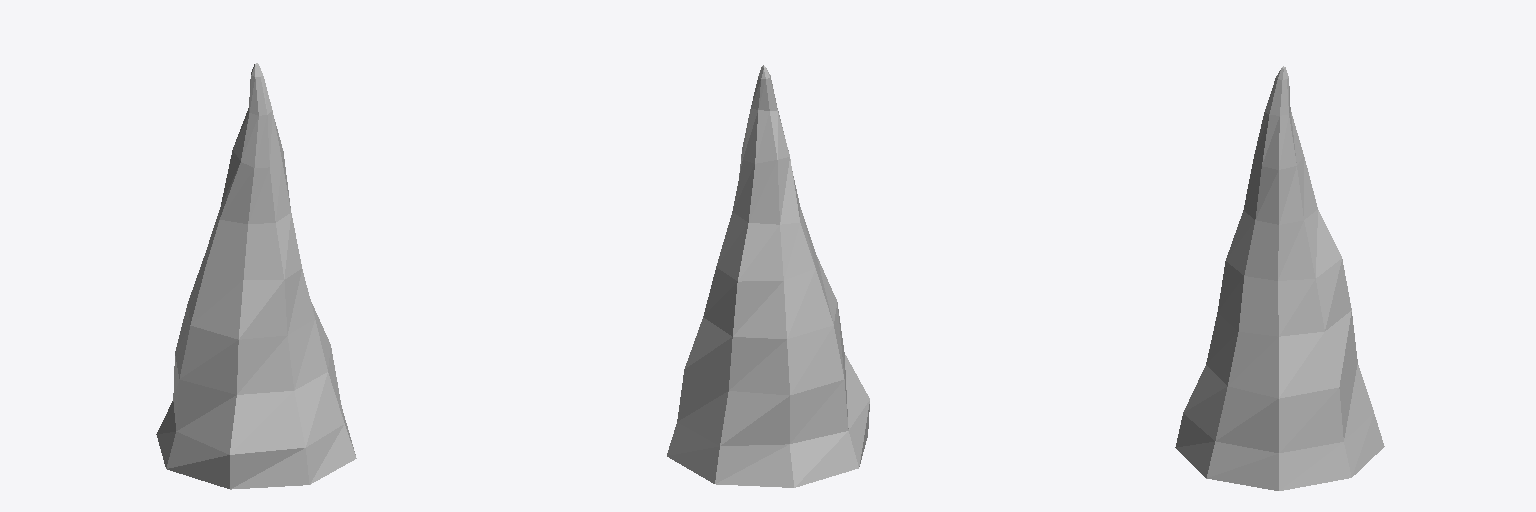
File: stalagmite001pCone1.OBJ
3 renders of one model, left to right at view 1: azimuth 30°, elevation 25°; view 2: azimuth 150°, elevation 25°; view 3: azimuth 270°, elevation 25°, orthographic.
Parts seen in each view (by area): view 1: ZBrush_defualt_group; view 2: ZBrush_defualt_group; view 3: ZBrush_defualt_group.
Part boxes in pixels (x1,y1,x2,y2): ZBrush_defualt_group: (156,63,356,489); ZBrush_defualt_group: (667,65,869,487); ZBrush_defualt_group: (1175,66,1384,490).
Bounding box in the file's own units: 6.29 × 12.7 × 6.29.